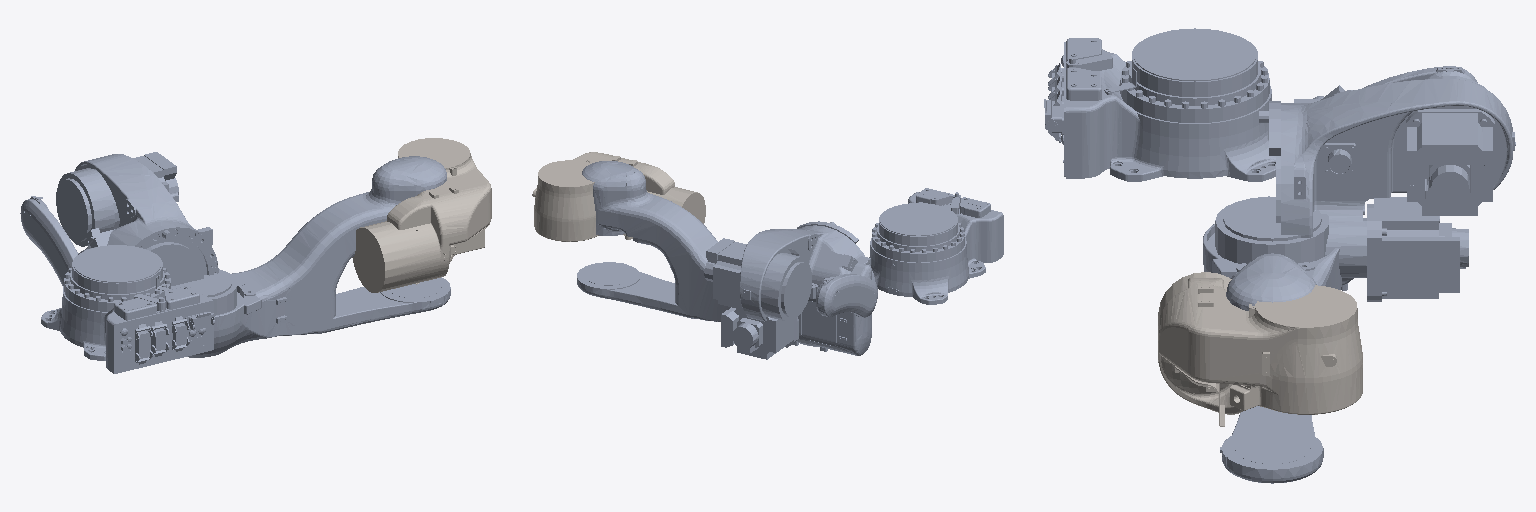
The robot description file, URDF, robot "solid3":
<?xml version="1.0" encoding="utf-8"?>
<!-- This URDF was automatically created by SolidWorks to URDF Exporter! Originally created by [author] ([email redacted]) 
     Commit Version: 1.6.0-4-g7f85cfe  Build Version: 1.6.7995.38578
     For more information, please see http://wiki.ros.org/sw_urdf_exporter -->
<robot name="solid3">
  <link name="base_link">
    <inertial>
      <origin xyz="0.00937906278884175 0.109574541839604 -0.0176406034497622" rpy="0 0 0" />
      <mass value="25.6539916981289" />
      <inertia ixx="0.239136649190483" ixy="-0.000543648890335132" ixz="-0.0422494851894456" iyy="0.822805328631802" iyz="0.0168713976789539" izz="0.650318661874187" />
    </inertial>
    <visual>
      <origin xyz="0 0 0" rpy="0 0 0" />
      <geometry>
        <mesh filename="package://solid3/meshes/base_link.STL" />
      </geometry>
      <material name="">
        <color rgba="0.666666666666667 0.698039215686274 0.768627450980392 1" />
      </material>
    </visual>
    <collision>
      <origin xyz="0 0 0" rpy="0 0 0" />
      <geometry>
        <mesh filename="package://solid3/meshes/base_link.STL" />
      </geometry>
    </collision>
  </link>
  <link name="link1">
    <inertial>
      <origin xyz="-0.0814119959068246 -0.0120614415092496 -0.0809815984553269" rpy="0 0 0" />
      <mass value="5.92660865008124" />
      <inertia ixx="0.0335604025607875" ixy="0.00134261962617858" ixz="-0.00147164805199203" iyy="0.0408707533916105" iyz="-0.00283854911669952" izz="0.0310490806428308" />
    </inertial>
    <visual>
      <origin xyz="0 0 0" rpy="0 0 0" />
      <geometry>
        <mesh filename="package://solid3/meshes/link1.STL" />
      </geometry>
      <material name="">
        <color rgba="0.666666666666667 0.698039215686274 0.768627450980392 1" />
      </material>
    </visual>
    <collision>
      <origin xyz="0 0 0" rpy="0 0 0" />
      <geometry>
        <mesh filename="package://solid3/meshes/link1.STL" />
      </geometry>
    </collision>
  </link>
  <joint name="joint1" type="revolute">
    <origin xyz="0.29801 0.2 0" rpy="1.5708 0 -3.1416" />
    <parent link="base_link" />
    <child link="link1" />
    <axis xyz="0 0 0" />
    <limit lower="0" upper="0" effort="0" velocity="0" />
  </joint>
  <link name="link2">
    <inertial>
      <origin xyz="-0.439916795610724 0.0508786014448957 -0.000216109224760589" rpy="0 0 0" />
      <mass value="44.0451816355128" />
      <inertia ixx="0.091038696848416" ixy="0.0911756527566456" ixz="-4.77491467702582E-05" iyy="1.31424043207446" iyz="1.26738558376208E-05" izz="1.36259880921922" />
    </inertial>
    <visual>
      <origin xyz="0 0 0" rpy="0 0 0" />
      <geometry>
        <mesh filename="package://solid3/meshes/link2.STL" />
      </geometry>
      <material name="">
        <color rgba="0.666666666666667 0.698039215686274 0.768627450980392 1" />
      </material>
    </visual>
    <collision>
      <origin xyz="0 0 0" rpy="0 0 0" />
      <geometry>
        <mesh filename="package://solid3/meshes/link2.STL" />
      </geometry>
    </collision>
  </link>
  <joint name="joint2" type="revolute">
    <origin xyz="-0.13 0 -0.008" rpy="1.5708 0 0" />
    <parent link="link1" />
    <child link="link2" />
    <axis xyz="0 0 0" />
    <limit lower="0" upper="0" effort="0" velocity="0" />
  </joint>
  <link name="link3">
    <inertial>
      <origin xyz="0.233294161003679 0.167905157920922 -1.32214400899531E-06" rpy="0 0 0" />
      <mass value="37.9822168688157" />
      <inertia ixx="0.0708795855582569" ixy="-0.000363986435515684" ixz="2.17579588033478E-07" iyy="0.37641163105333" iyz="3.31825717059638E-06" izz="0.406088517168859" />
    </inertial>
    <visual>
      <origin xyz="0 0 0" rpy="0 0 0" />
      <geometry>
        <mesh filename="package://solid3/meshes/link3.STL" />
      </geometry>
      <material name="">
        <color rgba="0.776470588235294 0.756862745098039 0.737254901960784 1" />
      </material>
    </visual>
    <collision>
      <origin xyz="0 0 0" rpy="0 0 0" />
      <geometry>
        <mesh filename="package://solid3/meshes/link3.STL" />
      </geometry>
    </collision>
  </link>
  <joint name="joint3" type="revolute">
    <origin xyz="-0.99745 0.08447 0" rpy="3.1416 0 3.1416" />
    <parent link="link2" />
    <child link="link3" />
    <axis xyz="0 0 0" />
    <limit lower="0" upper="0" effort="0" velocity="0" />
  </joint>
  <link name="link4_1">
    <inertial>
      <origin xyz="-1.79609978339101E-05 -0.0115269291049353 -1.40231714642176E-10" rpy="0 0 0" />
      <mass value="1.25395773572626" />
      <inertia ixx="0.00324756833867933" ixy="2.59529040711565E-07" ixz="2.83067588495449E-12" iyy="0.000233301837825292" iyz="2.47242134765699E-12" izz="0.00329486106846473" />
    </inertial>
    <visual>
      <origin xyz="0 0 0" rpy="0 0 0" />
      <geometry>
        <mesh filename="package://solid3/meshes/link4_1.STL" />
      </geometry>
      <material name="">
        <color rgba="0.776470588235294 0.756862745098039 0.737254901960784 1" />
      </material>
    </visual>
    <collision>
      <origin xyz="0 0 0" rpy="0 0 0" />
      <geometry>
        <mesh filename="package://solid3/meshes/link4_1.STL" />
      </geometry>
    </collision>
  </link>
  <joint name="joint4_1" type="revolute">
    <origin xyz="0.64199 0.11496 0" rpy="0 0 -0.039157" />
    <parent link="link3" />
    <child link="link4_1" />
    <axis xyz="0 0 0" />
    <limit lower="0" upper="0" effort="0" velocity="0" />
  </joint>
  <link name="link4_2">
    <inertial>
      <origin xyz="-0.0134173560338948 -1.31474038585707E-08 0.0122322427000708" rpy="0 0 0" />
      <mass value="2.8041529195513" />
      <inertia ixx="0.0151881074878236" ixy="1.72586810669242E-10" ixz="-0.000581806705958958" iyy="0.009974172898808" iyz="-3.23711200702678E-09" izz="0.00744302242193031" />
    </inertial>
    <visual>
      <origin xyz="0 0 0" rpy="0 0 0" />
      <geometry>
        <mesh filename="package://solid3/meshes/link4_2.STL" />
      </geometry>
      <material name="">
        <color rgba="0.776470588235294 0.756862745098039 0.737254901960784 1" />
      </material>
    </visual>
    <collision>
      <origin xyz="0 0 0" rpy="0 0 0" />
      <geometry>
        <mesh filename="package://solid3/meshes/link4_2.STL" />
      </geometry>
    </collision>
  </link>
  <joint name="joint4_2" type="revolute">
    <origin xyz="0 0 0" rpy="1.5708 0 3.1416" />
    <parent link="link4_1" />
    <child link="link4_2" />
    <axis xyz="0 0 0" />
    <limit lower="0" upper="0" effort="0" velocity="0" />
  </joint>
  <link name="flange_link">
    <inertial>
      <origin xyz="-0.0723377865054053 -0.00612579495257404 0.172458587917281" rpy="0 0 0" />
      <mass value="0.038742319690396" />
      <inertia ixx="7.13938617193655E-06" ixy="-3.74346635385156E-06" ixz="-2.16108410756992E-06" iyy="7.65549566134637E-06" iyz="-2.57612312481031E-06" izz="1.06292247040152E-05" />
    </inertial>
    <visual>
      <origin xyz="0 0 0" rpy="0 0 0" />
      <geometry>
        <mesh filename="package://solid3/meshes/flange_link.STL" />
      </geometry>
      <material name="">
        <color rgba="0.686274509803922 0.686274509803922 0.686274509803922 1" />
      </material>
    </visual>
    <collision>
      <origin xyz="0 0 0" rpy="0 0 0" />
      <geometry>
        <mesh filename="package://solid3/meshes/flange_link.STL" />
      </geometry>
    </collision>
  </link>
  <joint name="flange_joint" type="fixed">
    <origin xyz="-0.04 0 0" rpy="1.5708 0 -1.5708" />
    <parent link="link4_2" />
    <child link="flange_link" />
    <axis xyz="0 0 0" />
  </joint>
</robot>

--- Facts derived from the render (not from the file) ---
The picture shows the robot from 3 angles, left to right: view 1: azimuth 30°, elevation 25°; view 2: azimuth 150°, elevation 25°; view 3: azimuth 270°, elevation 25°; orthographic projection.
Model solid3 with 7 links and 6 joints (5 revolute, 1 fixed), rooted at base_link, posed every joint at zero.
Links seen in each view (by area): view 1: link2, link1, base_link, link3; view 2: link1, link2, base_link, link3; view 3: link1, base_link, link3, link2.
Link boxes in pixels (bbox=[...]): link2: bbox=[172, 156, 450, 357]; link1: bbox=[20, 152, 218, 285]; base_link: bbox=[41, 245, 214, 373]; link3: bbox=[352, 138, 491, 292]; link1: bbox=[704, 221, 877, 359]; link2: bbox=[577, 161, 730, 321]; base_link: bbox=[869, 188, 1003, 304]; link3: bbox=[532, 152, 705, 241]; link1: bbox=[1259, 66, 1515, 301]; base_link: bbox=[1044, 28, 1275, 181]; link3: bbox=[1158, 272, 1362, 426]; link2: bbox=[1203, 196, 1341, 483].
Size in the robot's own frame: 1.78 by 1.17 by 0.5964 metres.
4 mesh visuals loaded from 7 distinct referenced files (4 binary STL); not drawn: 3 (reference not matched to a file when rendering).